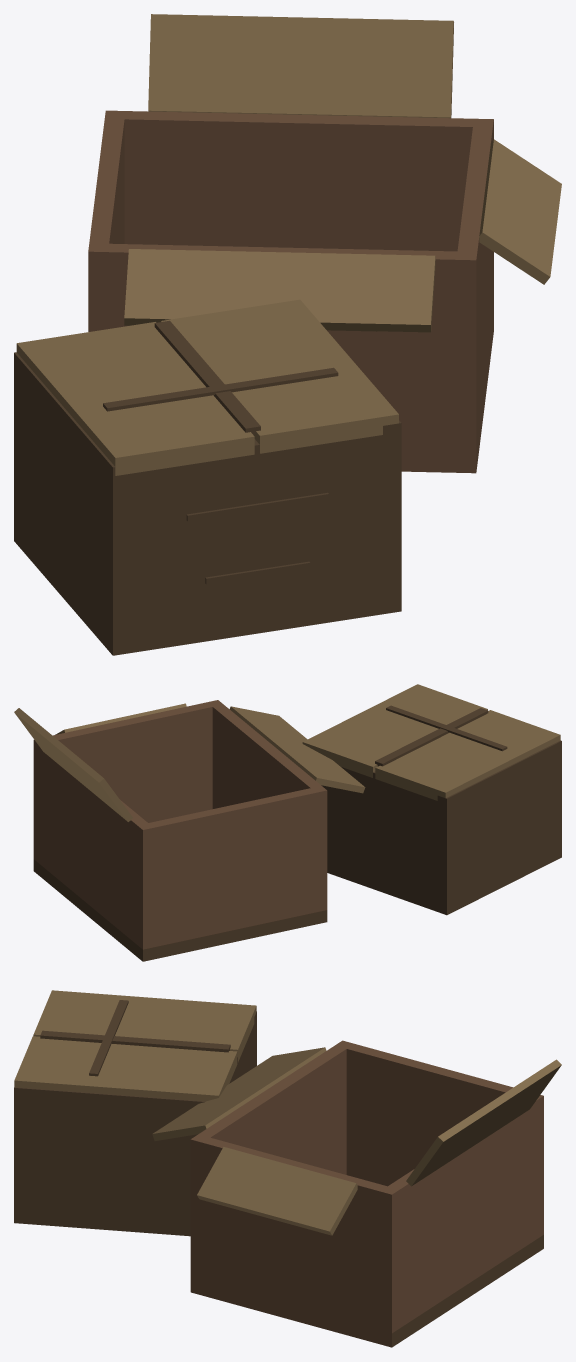
Rendered from CMU3DDecorFloorCardboardSouthEast.glb.
3 views of the same model, one above another, from view 1: azimuth 30°, elevation 25°; view 2: azimuth 150°, elevation 25°; view 3: azimuth 270°, elevation 25° (orthographic). The views are drawn at different scales.
Visible parts, largest first — view 1: carton 1 back wall, carton 2 front wall, carton 1 raised back flap, carton 1 folded front flap, carton 2 left wall, carton 2 closed lid half -1, carton 2 closed lid half 1, carton 1 front wall, carton 1 right wall, carton 1 side flap, carton 2 recessed bottom, carton 1 left wall (+5 smaller); view 2: carton 1 left wall, carton 2 left wall, carton 1 right wall, carton 1 back wall, carton 2 back wall, carton 2 closed lid half -1, carton 2 closed lid half 1, carton 1 front wall, carton 1 recessed bottom, carton 1 folded front flap, carton 2 recessed bottom, carton 1 raised back flap (+3 smaller); view 3: carton 1 right wall, carton 2 right wall, carton 1 back wall, carton 1 left wall, carton 2 closed lid half 1, carton 1 front wall, carton 2 closed lid half -1, carton 1 side flap, carton 1 raised back flap, carton 1 folded front flap, carton 2 recessed bottom, carton 1 recessed bottom (+3 smaller).
Boxes of the visible parts, bbox=[...] form: carton 1 back wall: bbox=[124, 111, 473, 251]; carton 2 front wall: bbox=[131, 435, 382, 633]; carton 1 raised back flap: bbox=[148, 14, 453, 118]; carton 1 folded front flap: bbox=[124, 249, 435, 332]; carton 2 left wall: bbox=[14, 352, 131, 654]; carton 2 closed lid half -1: bbox=[16, 322, 254, 475]; carton 2 closed lid half 1: bbox=[161, 299, 398, 453]; carton 1 front wall: bbox=[108, 243, 457, 472]; carton 1 right wall: bbox=[456, 118, 493, 473]; carton 1 side flap: bbox=[479, 139, 561, 284]; carton 2 recessed bottom: bbox=[14, 522, 401, 655]; carton 1 left wall: bbox=[88, 110, 125, 331]; carton 1 left wall: bbox=[137, 786, 327, 949]; carton 2 left wall: bbox=[437, 740, 561, 915]; carton 1 right wall: bbox=[33, 700, 223, 863]; carton 1 back wall: bbox=[39, 747, 147, 944]; carton 2 back wall: bbox=[321, 767, 437, 899]; carton 2 closed lid half -1: bbox=[375, 710, 560, 800]; carton 2 closed lid half 1: bbox=[302, 684, 487, 777]; carton 1 front wall: bbox=[212, 704, 321, 808]; carton 1 recessed bottom: bbox=[33, 859, 327, 961]; carton 1 folded front flap: bbox=[229, 706, 365, 793]; carton 2 recessed bottom: bbox=[327, 845, 561, 914]; carton 1 raised back flap: bbox=[14, 708, 132, 821]; carton 1 right wall: bbox=[190, 1134, 399, 1347]; carton 2 right wall: bbox=[14, 1087, 205, 1221]; carton 1 back wall: bbox=[388, 1101, 536, 1327]; carton 1 left wall: bbox=[335, 1040, 543, 1239]; carton 2 closed lid half 1: bbox=[14, 1036, 237, 1101]; carton 1 front wall: bbox=[198, 1045, 346, 1174]; carton 2 closed lid half -1: bbox=[33, 990, 256, 1062]; carton 1 side flap: bbox=[197, 1147, 357, 1235]; carton 1 raised back flap: bbox=[406, 1059, 561, 1186]; carton 1 folded front flap: bbox=[152, 1047, 326, 1140]; carton 2 recessed bottom: bbox=[14, 1209, 190, 1236]; carton 1 recessed bottom: bbox=[392, 1235, 543, 1347].
Bounding box in the file's own units: 0.8206 × 0.3538 × 0.8443.
